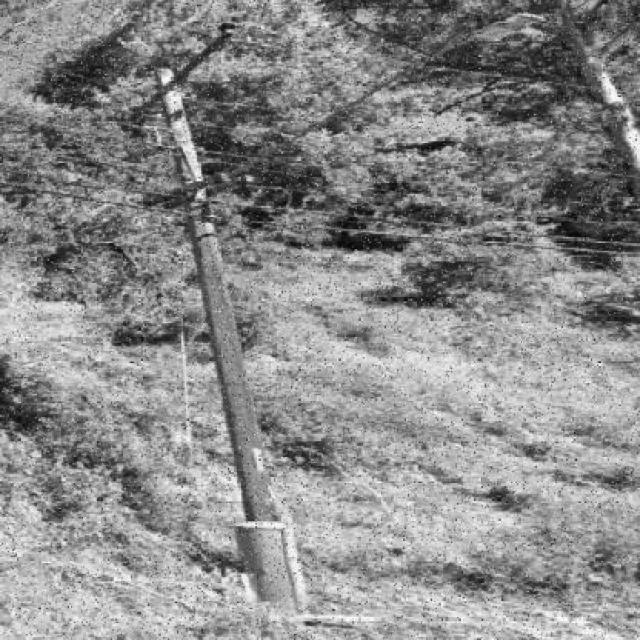crossarm: (118, 23, 235, 132)
pole: (162, 72, 309, 618)
